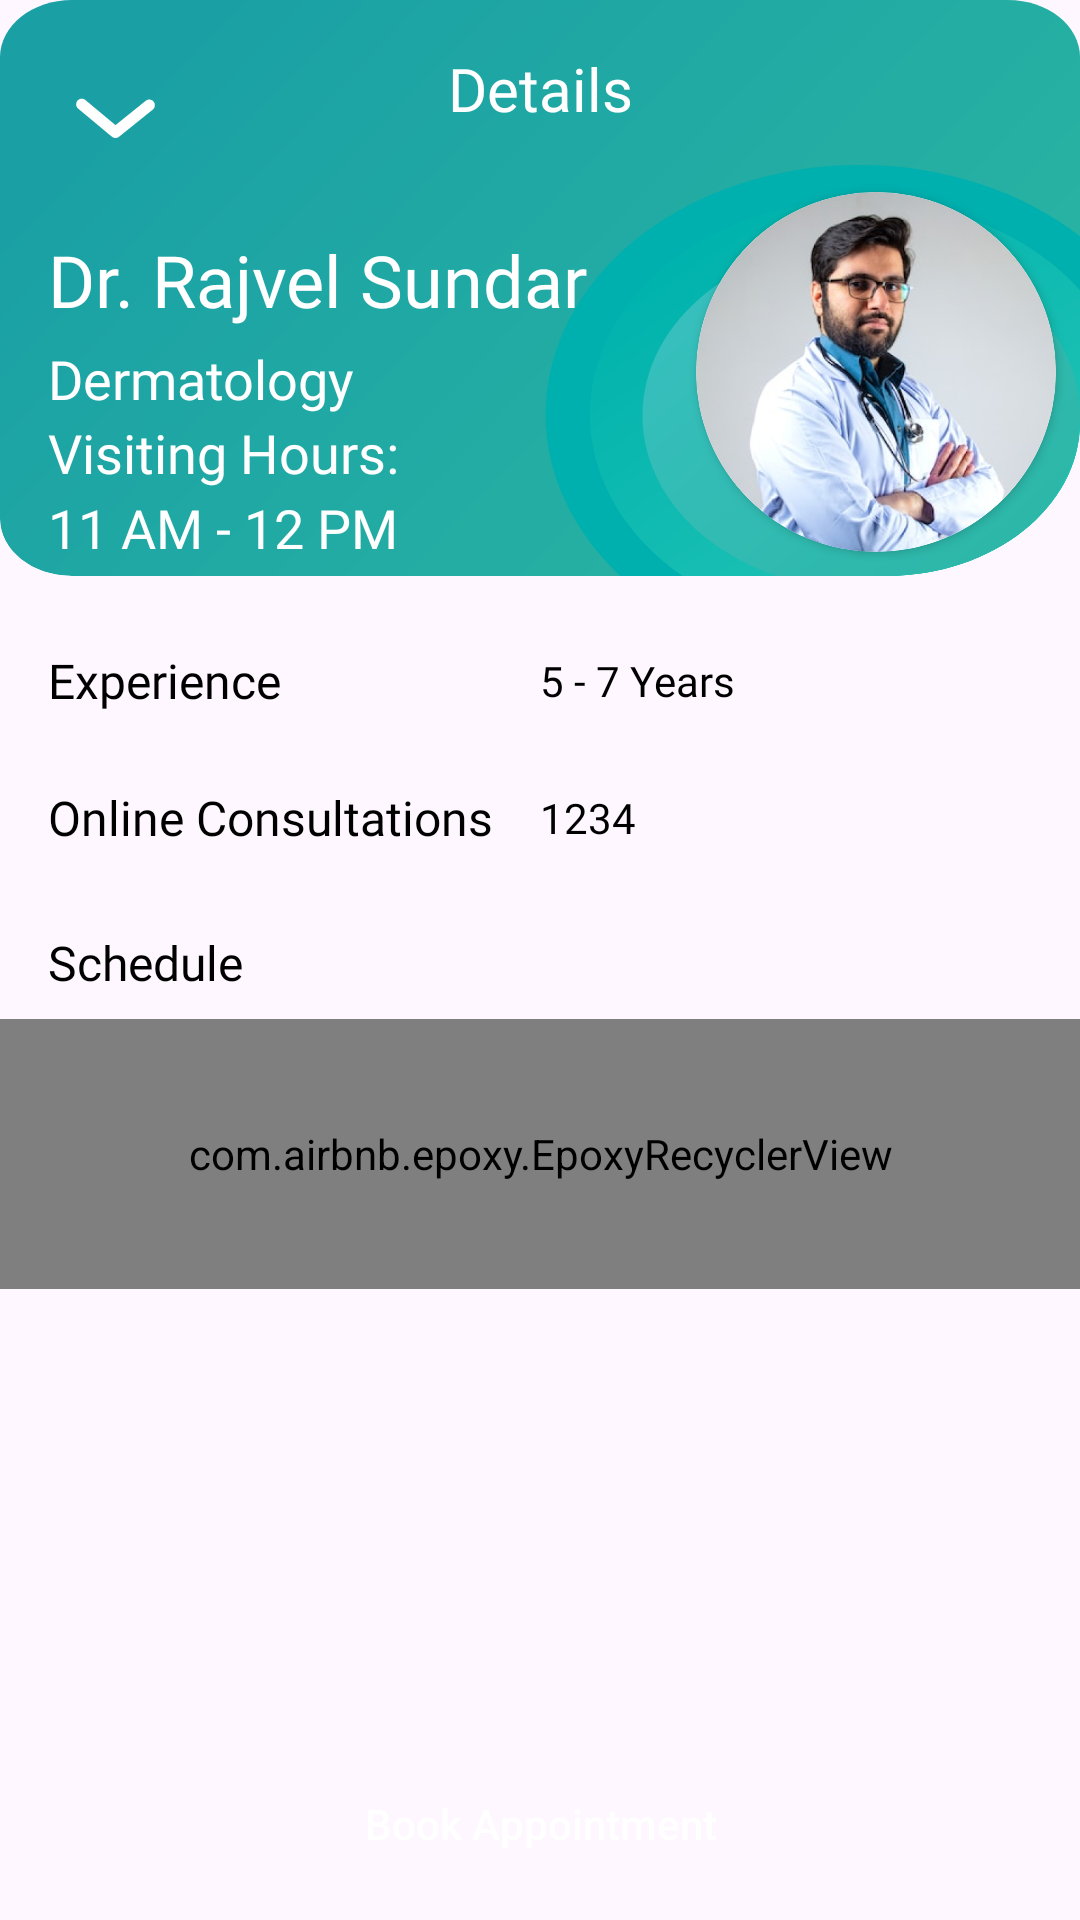

Icon click points for this 1080px x 1920px phone screenshot, format point (x, y):
doctor: point (876, 372)
